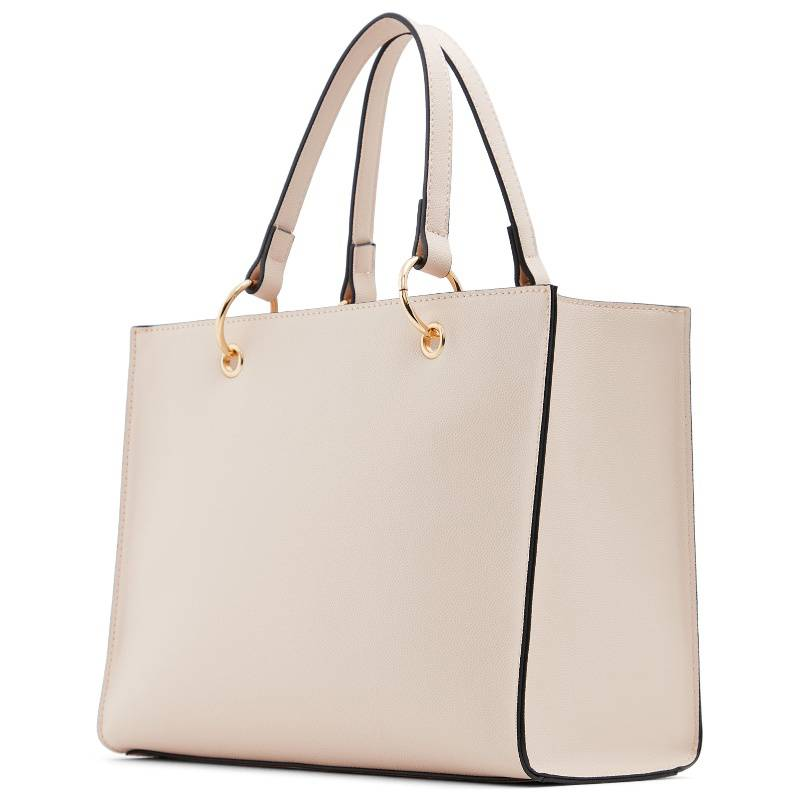cartera: (54, 9, 729, 786)
cuero: (254, 454, 476, 597)
